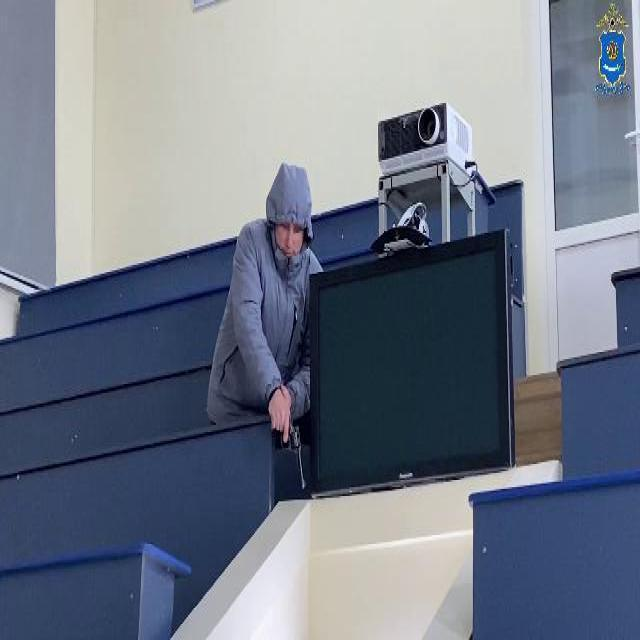pistol: (282, 416, 308, 494)
